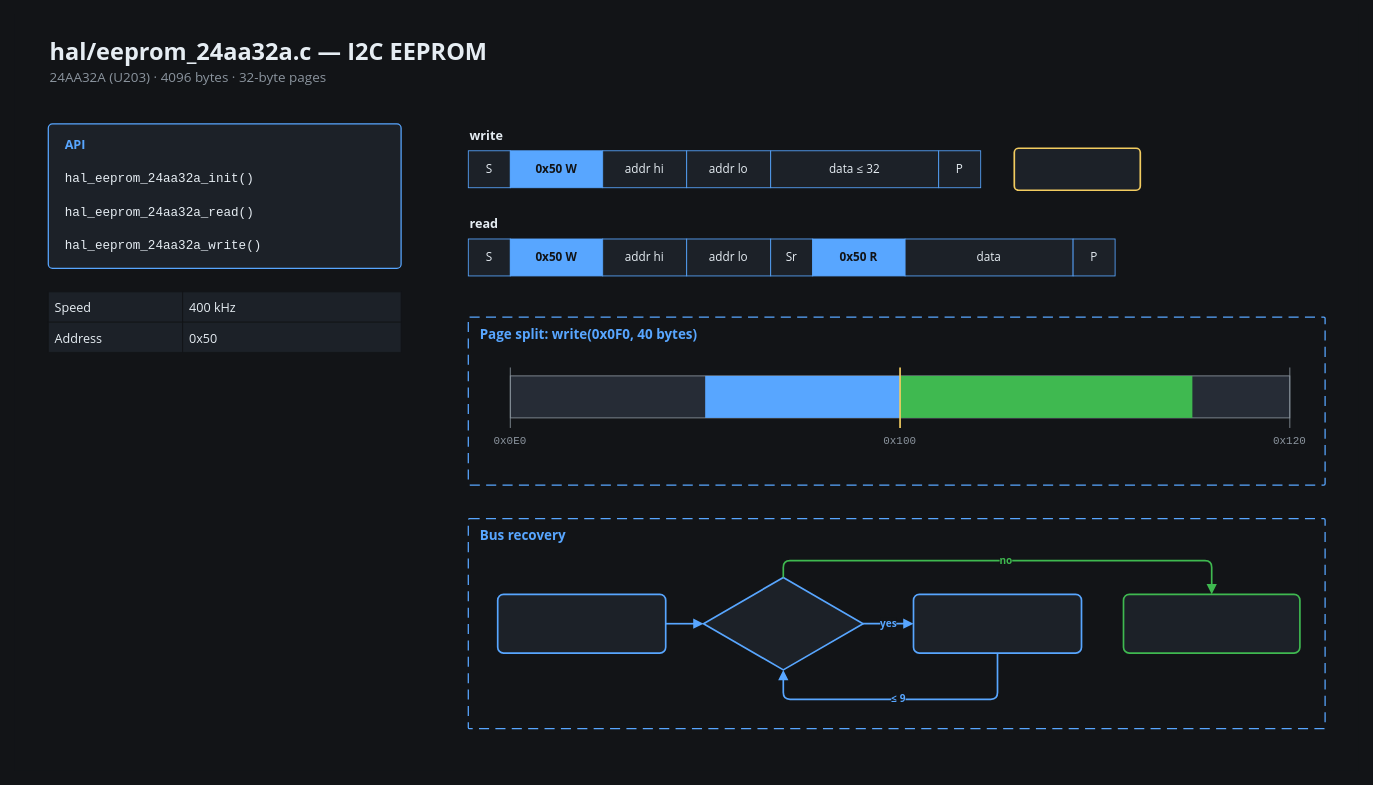
This 1373x785 diagram has some shape labels left out. Each missing label, with the centre of its shape:
"1 SCL clock" belongs at (x=997, y=623).
"16 B" belongs at (x=802, y=396).
"24 B" belongs at (x=1046, y=396).
"5 ms" belongs at (x=1077, y=169).
"i2c_init()" belongs at (x=1211, y=623).
"release" belongs at (x=581, y=623).
"SDA low?" belongs at (x=783, y=623).
